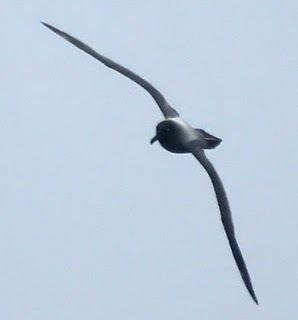bird: (41, 19, 261, 305)
